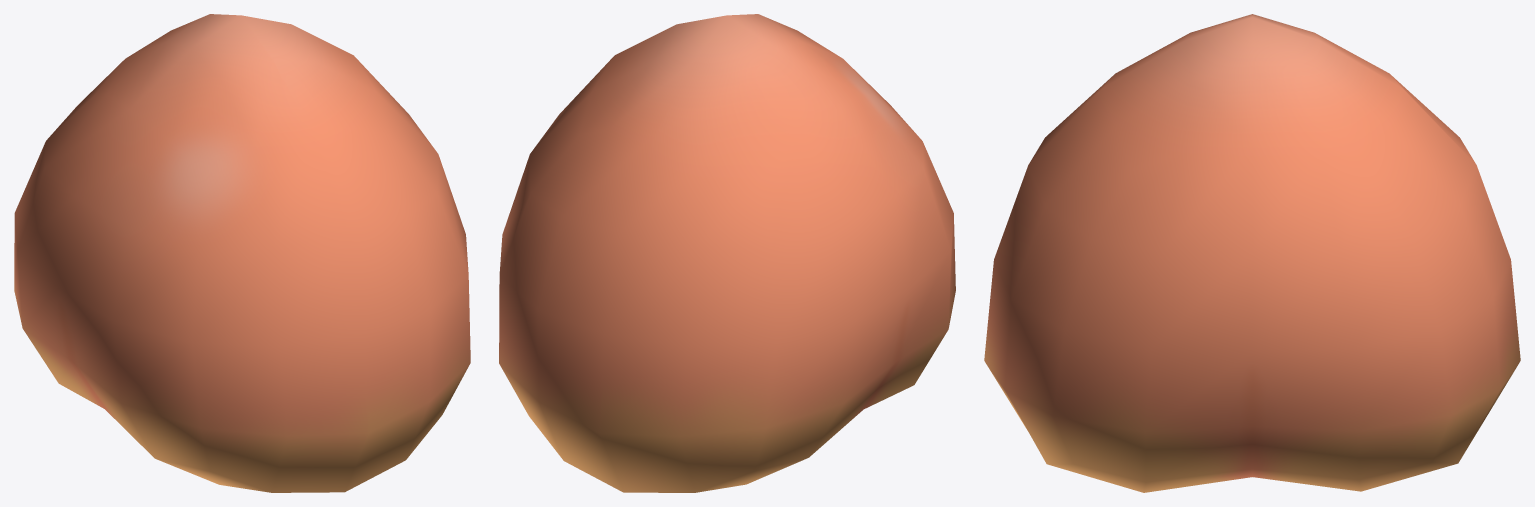
Rendered from peach.fbx.
3 renders of one model, left to right at view 1: azimuth 30°, elevation 25°; view 2: azimuth 150°, elevation 25°; view 3: azimuth 270°, elevation 25°, orthographic. The views are drawn at different scales.
Parts seen in each view (by area): view 1: pCube2; view 2: pCube2; view 3: pCube2.
Part boxes in pixels (x1,y1,x2,y2): pCube2: (14,14,470,492); pCube2: (499,14,955,492); pCube2: (984,14,1520,492).
Size of the model in its own units: 46.52 by 51.94 by 55.53.
